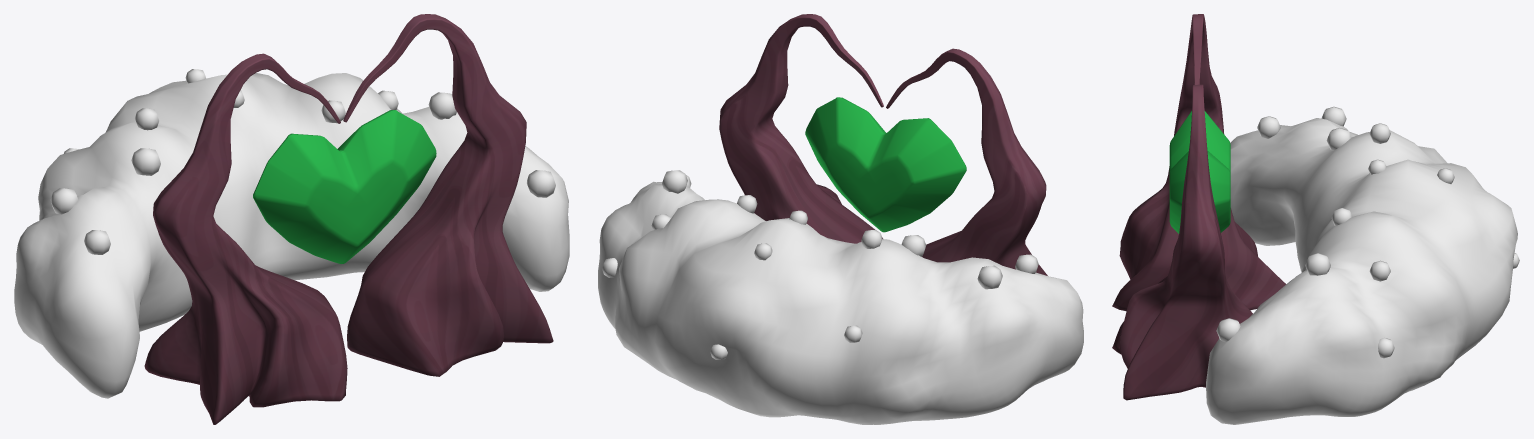
The model's file is ArbolCorazon.fbx.
3 views of the same model, side by side, from view 1: azimuth 30°, elevation 25°; view 2: azimuth 150°, elevation 25°; view 3: azimuth 270°, elevation 25° (orthographic). The views are drawn at different scales.
Visible parts, largest first — view 1: Troncos, Arbusto, Heart, Flor, Flor.007, Flor.004, Flor.010, Flor.011; view 2: Arbusto, Troncos, Heart, Flor.004, Flor.010; view 3: Arbusto, Troncos, Heart, Flor.004, Flor.007, Flor.011, Flor.
Part boxes in pixels (x1,y1,x2,y2): Troncos: [144, 14, 553, 424]; Arbusto: [14, 73, 569, 398]; Heart: [253, 110, 436, 263]; Flor: [131, 148, 160, 175]; Flor.007: [527, 170, 555, 197]; Flor.004: [428, 92, 456, 119]; Flor.010: [50, 188, 78, 214]; Flor.011: [84, 230, 110, 254]; Arbusto: [598, 181, 1083, 424]; Troncos: [719, 14, 1047, 275]; Heart: [805, 97, 966, 232]; Flor.004: [662, 170, 687, 193]; Flor.010: [977, 265, 1002, 289]; Arbusto: [1206, 118, 1517, 424]; Troncos: [1112, 14, 1286, 400]; Heart: [1169, 111, 1230, 233]; Flor.004: [1305, 253, 1330, 275]; Flor.007: [1216, 318, 1240, 342]; Flor.011: [1257, 116, 1280, 138]; Flor: [1326, 128, 1351, 150].
Bounding box in the file's own units: 1964 × 1226 × 1556.
